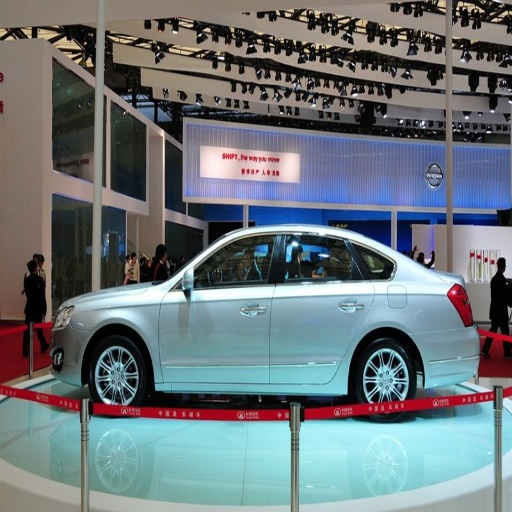back_left_door: (270, 232, 374, 383)
front_left_door: (160, 233, 278, 381)
